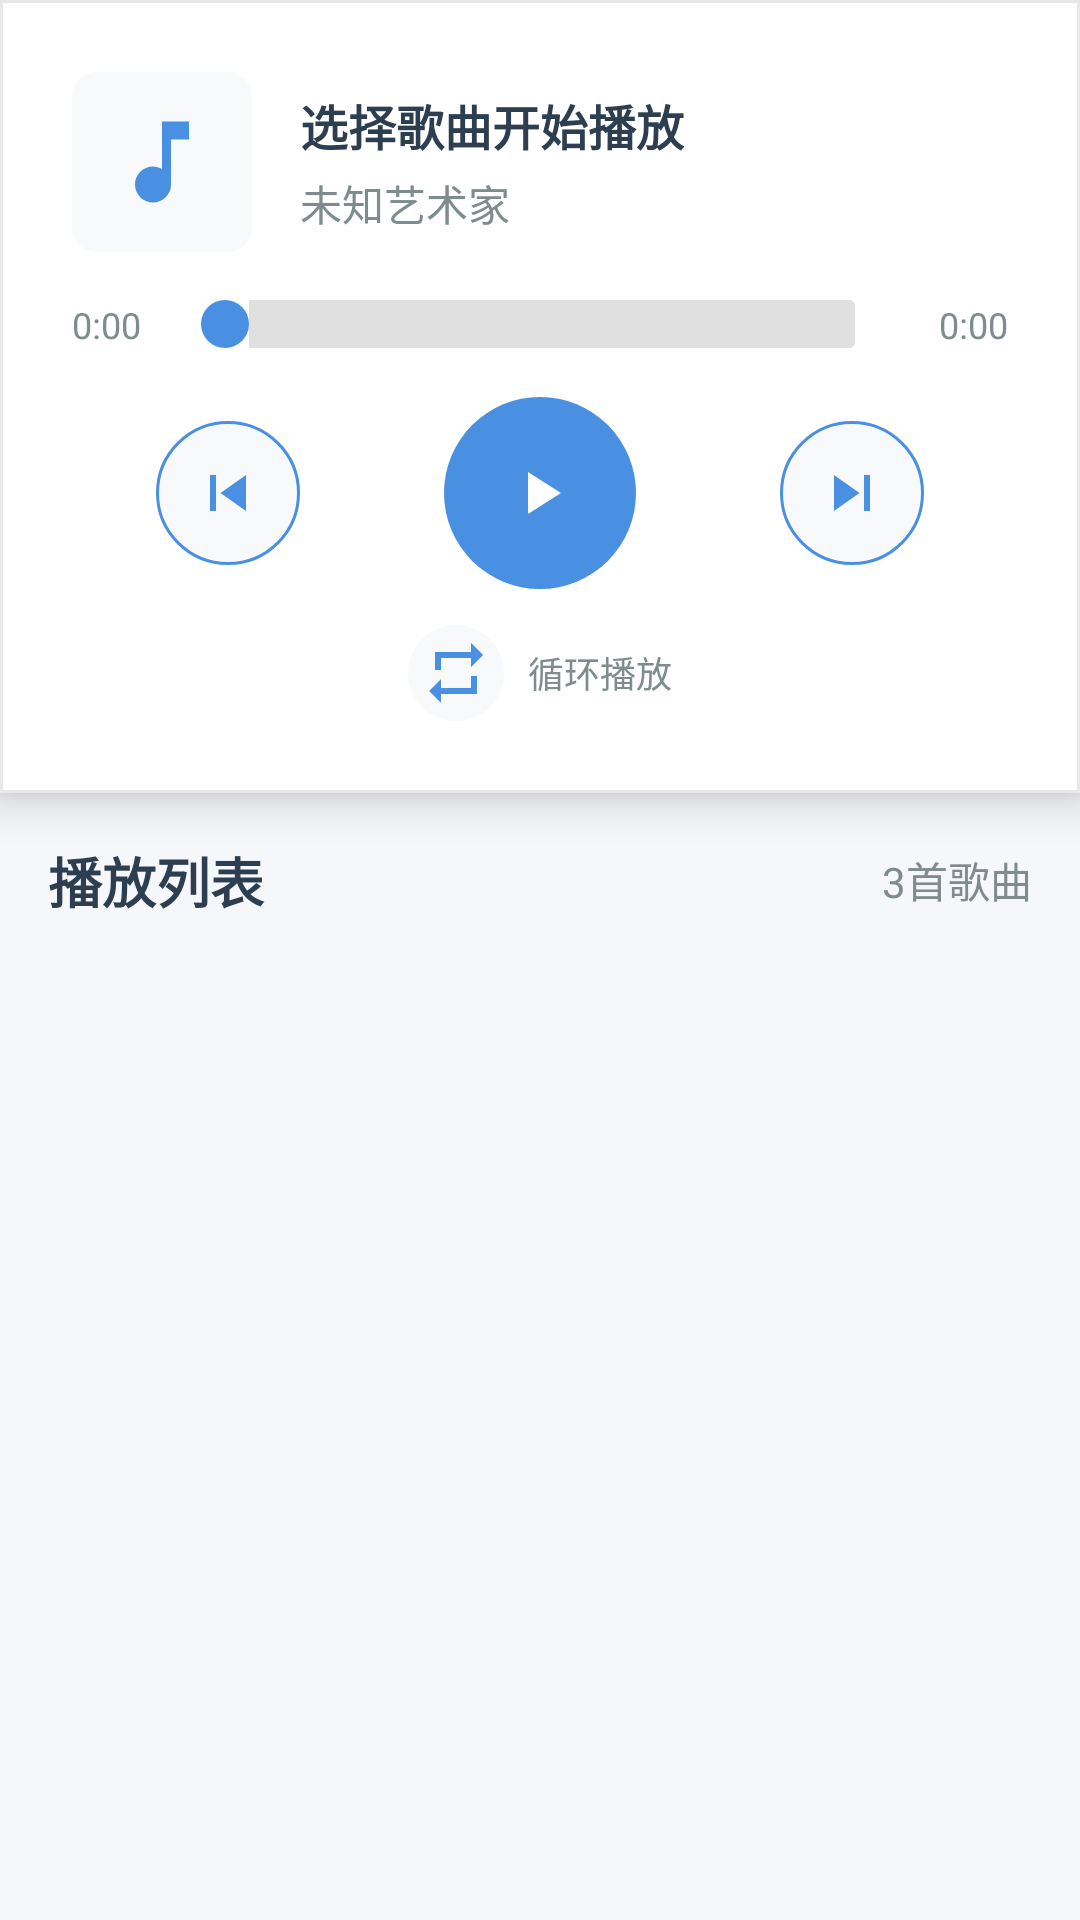

Screen size 1080px x 1920px. Icon name, then its center in pixels as [x,y]:
music note: [162,162]
play: [540,493]
repeat: [456,673]
skip next: [852,493]
skip previous: [228,493]
